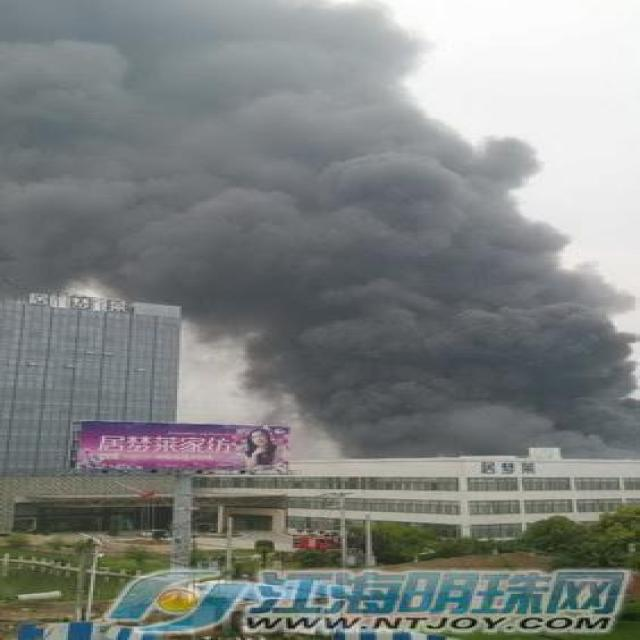smoke: (7, 0, 640, 458)
